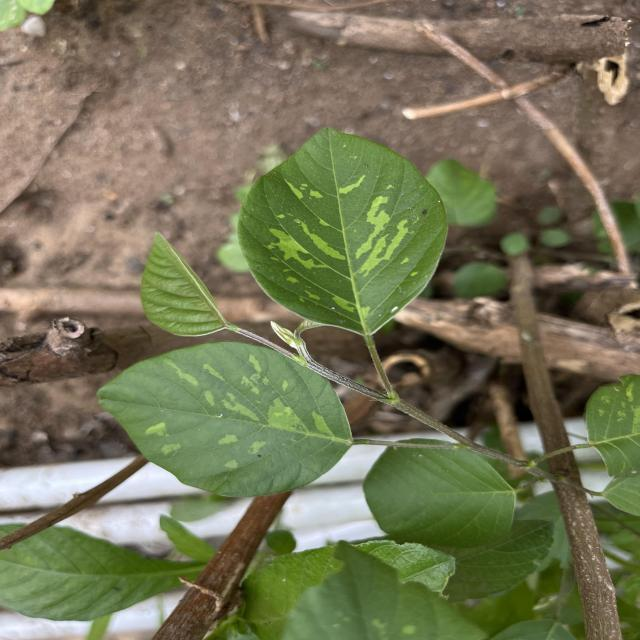Desmodium gangeticum: (232, 124, 452, 338), (95, 338, 356, 500)
